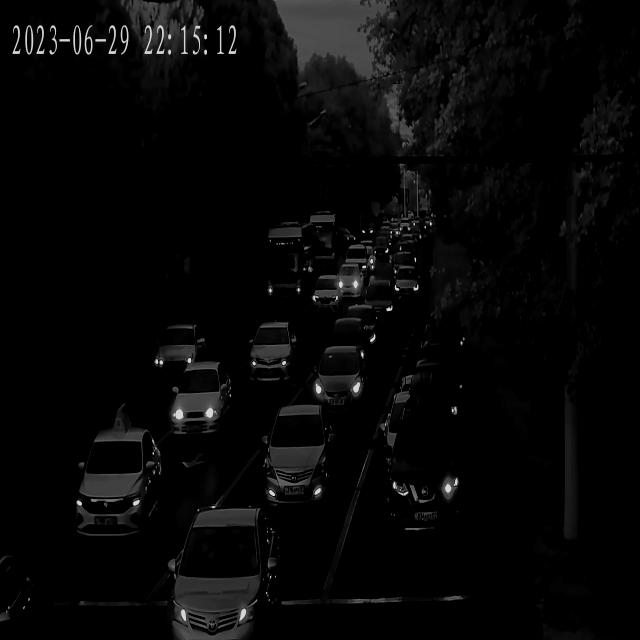Bus: (264, 222, 312, 308), (308, 210, 341, 274)
Car: (171, 504, 282, 640), (72, 424, 164, 556), (389, 399, 468, 544), (267, 404, 336, 517), (380, 395, 456, 476), (312, 346, 370, 426), (172, 361, 232, 437), (404, 353, 458, 433), (151, 324, 206, 386), (249, 320, 297, 390), (419, 311, 469, 378), (0, 554, 36, 640), (346, 297, 382, 367), (329, 317, 367, 373), (367, 282, 399, 341), (314, 278, 341, 316), (337, 262, 362, 298), (394, 271, 418, 307), (349, 243, 371, 281), (388, 254, 414, 285), (373, 226, 392, 258), (399, 230, 416, 262)
